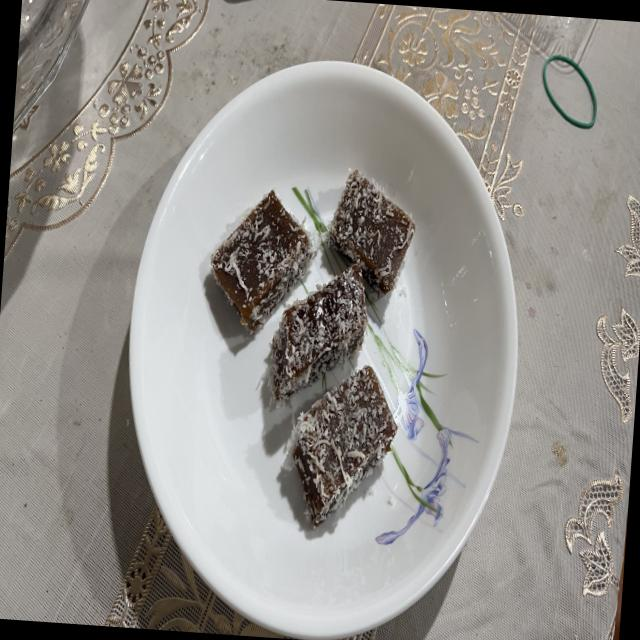kaswi: (288, 365, 396, 527), (211, 190, 314, 333), (269, 262, 367, 400), (329, 169, 414, 295)
